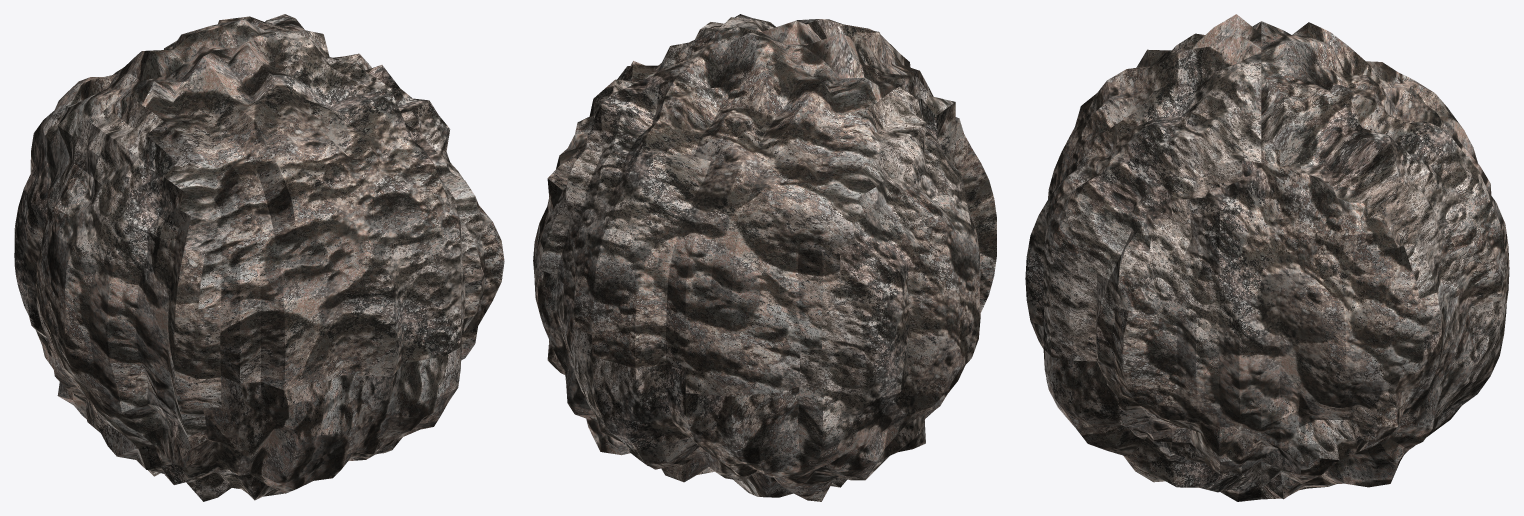
File: asteroid188.obj
3 renders of one model, left to right at view 1: azimuth 30°, elevation 25°; view 2: azimuth 150°, elevation 25°; view 3: azimuth 270°, elevation 25°, orthographic.
Visible parts, largest first — view 1: Cube_Cube.002; view 2: Cube_Cube.002; view 3: Cube_Cube.002.
Boxes of the visible parts, bbox=[...] form: Cube_Cube.002: bbox=[14, 14, 504, 501]; Cube_Cube.002: bbox=[533, 14, 996, 501]; Cube_Cube.002: bbox=[1025, 14, 1509, 501].
Bounding box in the file's own units: 1.7 × 1.87 × 1.82.
